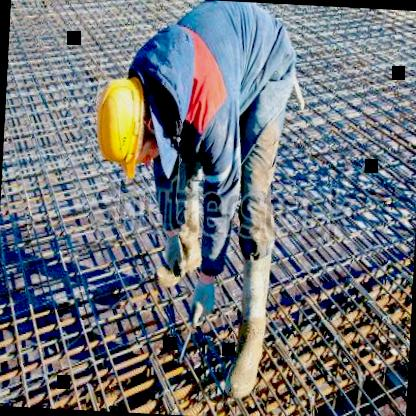helmet: (90, 71, 168, 173)
